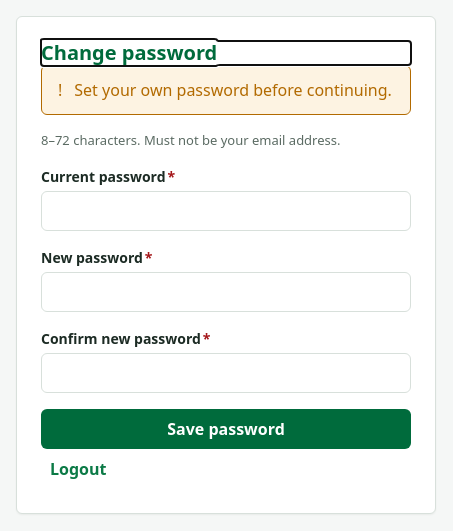
UI-06 a mandatory change blocks the application (BR-02) › offers Logout, for someone who signed in to the wrong account
This screenshot has width=453, height=531.
Check: the text "Set your own password before continuing." is shown, box [74, 78, 392, 102]
Click the button "Logout": click(78, 469) [41, 449, 115, 489]
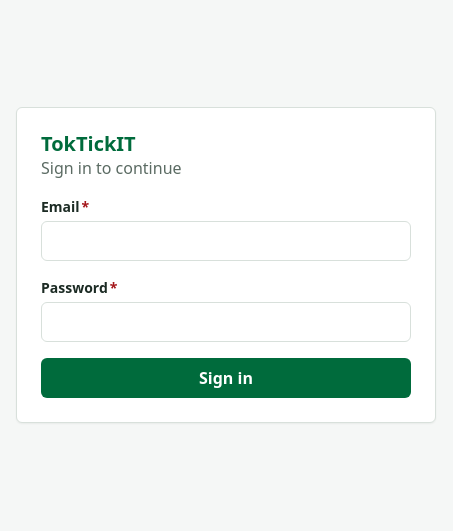
Check: the button "Sign in" is shown, box [41, 358, 411, 398]
